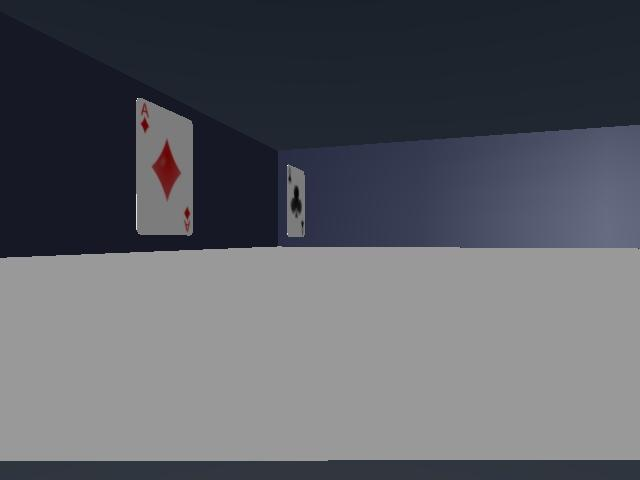club: (286, 165, 305, 236)
diamond: (136, 99, 192, 234)
